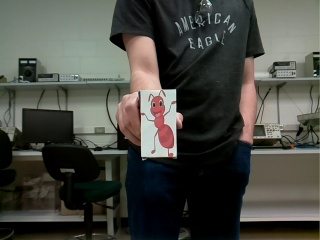Happy: (140, 89, 176, 157)
